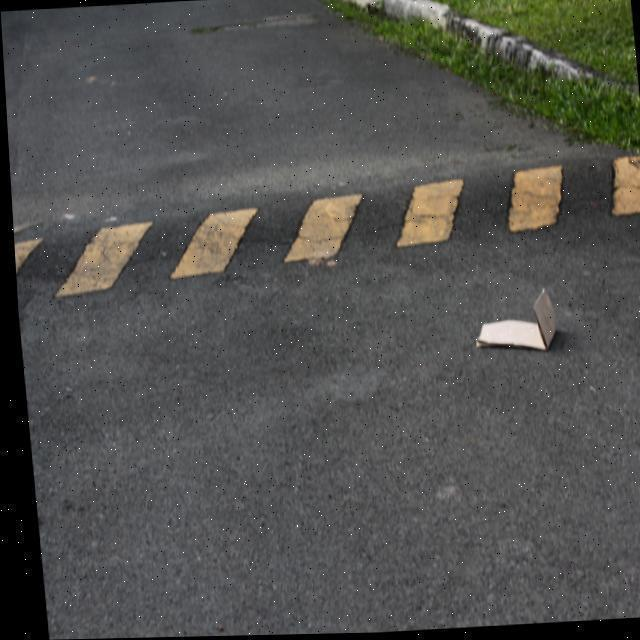Paper_Bag: (466, 288, 555, 358)
